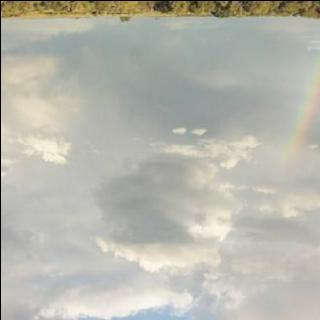Cirrocumulus: (0, 12, 319, 320)
